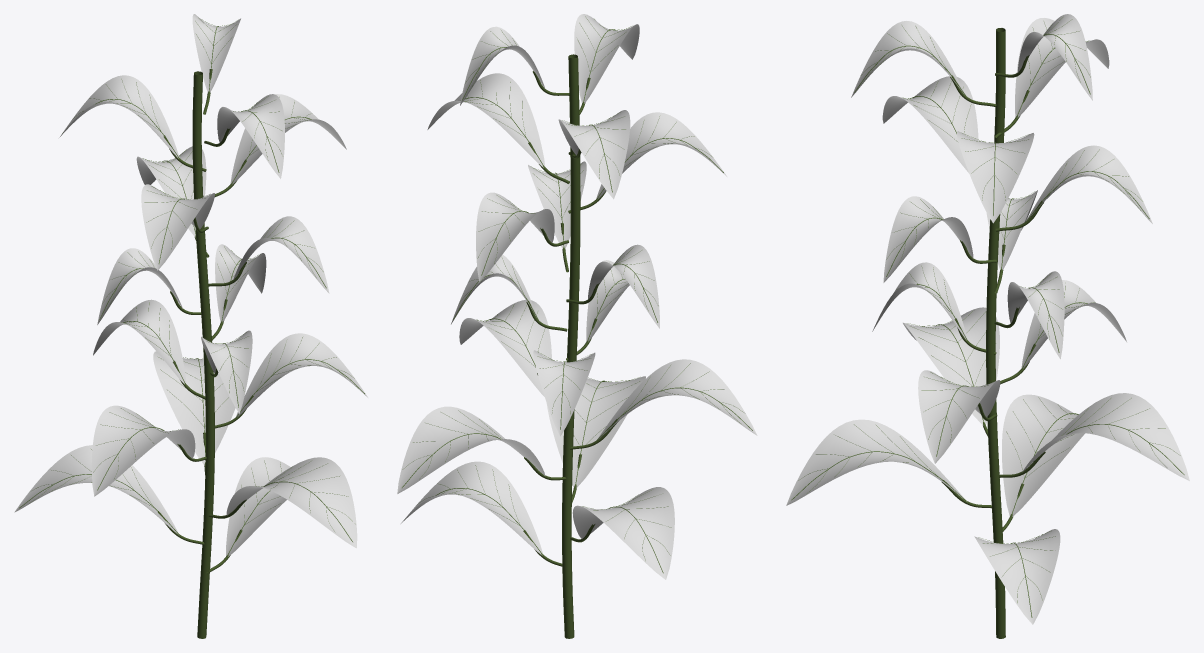
File: welcome-plant.glb
3 renders of one model, left to right at view 1: azimuth 30°, elevation 25°; view 2: azimuth 150°, elevation 25°; view 3: azimuth 270°, elevation 25°, orthographic. The views are drawn at different scales.
Visible parts, largest first — view 1: Main stem, Leaf 02, Leaf 04, Leaf 03, Leaf 12, Leaf 01, Leaf 05, Leaf 00, Leaf 15, Leaf 06, Leaf 14, Leaf 07 (+6 smaller); view 2: Main stem, Leaf 01, Leaf 03, Leaf 02, Leaf 04, Leaf 00, Leaf 13, Leaf 05, Leaf 11, Leaf 14, Leaf 15, Leaf 06 (+6 smaller); view 3: Leaf 01, Leaf 02, Leaf 03, Main stem, Leaf 04, Leaf 00, Leaf 05, Leaf 13, Leaf 12, Leaf 10, Leaf 14, Leaf 11 (+6 smaller).
Boxes of the visible parts, left/top/right/bottom form: Main stem: left=192, top=71, right=214, bottom=638; Leaf 02: left=226, top=457, right=357, bottom=548; Leaf 04: left=91, top=405, right=195, bottom=496; Leaf 03: left=153, top=351, right=235, bottom=465; Leaf 12: left=141, top=184, right=214, bottom=270; Leaf 01: left=14, top=445, right=178, bottom=534; Leaf 05: left=236, top=333, right=367, bottom=417; Leaf 00: left=226, top=457, right=290, bottom=556; Leaf 15: left=217, top=94, right=284, bottom=178; Leaf 06: left=93, top=299, right=186, bottom=384; Leaf 14: left=59, top=75, right=179, bottom=158; Leaf 07: left=201, top=330, right=252, bottom=413; Main stem: left=562, top=54, right=580, bottom=638; Leaf 01: left=572, top=487, right=674, bottom=579; Leaf 03: left=397, top=406, right=545, bottom=493; Leaf 02: left=546, top=376, right=645, bottom=487; Leaf 04: left=598, top=359, right=757, bottom=439; Leaf 00: left=401, top=461, right=542, bottom=555; Leaf 13: left=427, top=73, right=545, bottom=167; Leaf 05: left=459, top=300, right=551, bottom=396; Leaf 11: left=476, top=192, right=554, bottom=281; Leaf 14: left=558, top=110, right=630, bottom=199; Leaf 15: left=574, top=14, right=639, bottom=103; Leaf 06: left=533, top=350, right=595, bottom=436; Leaf 01: left=1002, top=394, right=1084, bottom=517; Leaf 02: left=786, top=419, right=966, bottom=505; Leaf 03: left=1022, top=393, right=1189, bottom=480; Main stem: left=986, top=28, right=1005, bottom=638; Leaf 04: left=903, top=307, right=999, bottom=425; Leaf 00: left=974, top=529, right=1060, bottom=624; Leaf 05: left=918, top=370, right=1000, bottom=463; Leaf 13: left=957, top=131, right=1034, bottom=223; Leaf 12: left=882, top=76, right=978, bottom=172; Leaf 10: left=883, top=196, right=973, bottom=282; Leaf 14: left=1015, top=18, right=1109, bottom=117; Leaf 11: left=1026, top=145, right=1152, bottom=223.
Bounding box in the file's own units: 1.8 × 3.46 × 2.
